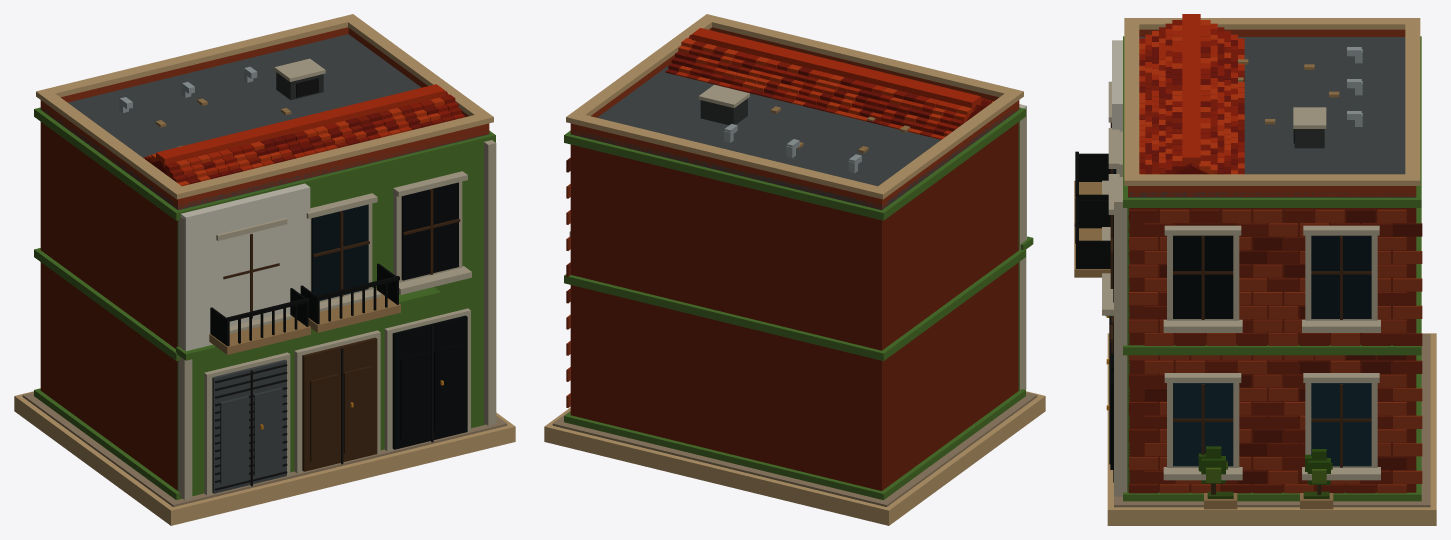
File: SM_Mapa_029.fbx
3 renders of one model, left to right at view 1: azimuth 30°, elevation 25°; view 2: azimuth 150°, elevation 25°; view 3: azimuth 270°, elevation 25°, orthographic. The views are drawn at different scales.
Visible parts, largest first — view 1: SM_Mapa_029; view 2: SM_Mapa_029; view 3: SM_Mapa_029.
Boxes of the visible parts, x1,y1,x2,y2 form: SM_Mapa_029: (14,14,515,525); SM_Mapa_029: (544,14,1045,525); SM_Mapa_029: (1074,14,1436,525).
Bounding box in the file's own units: 8 × 6.85 × 7.31.
